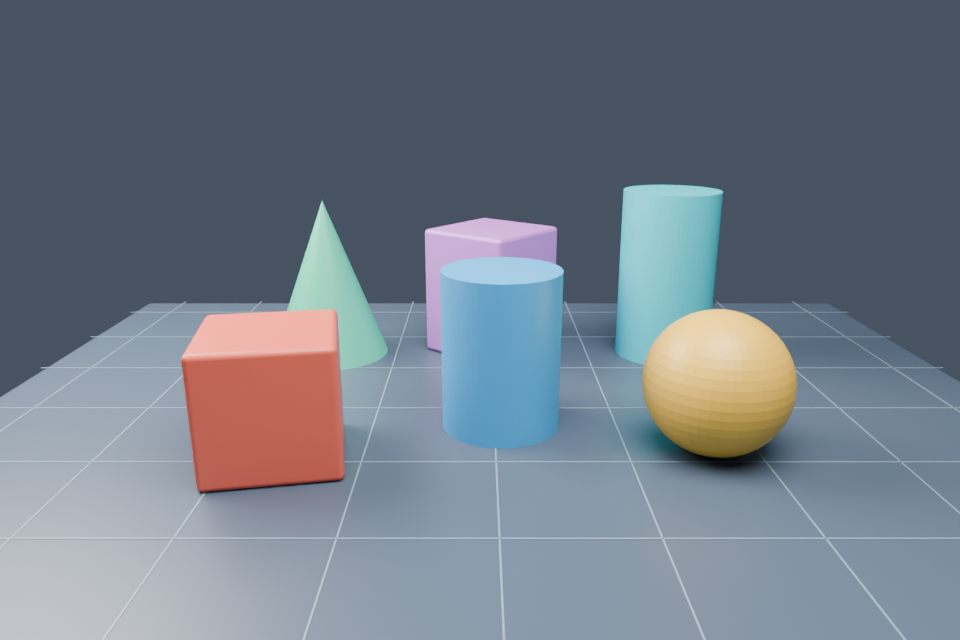cone: (287, 201, 388, 370)
cube: (181, 309, 345, 492), (425, 218, 557, 352)
cylinder: (440, 257, 564, 449), (615, 185, 723, 364)
sphere: (642, 309, 797, 458)
